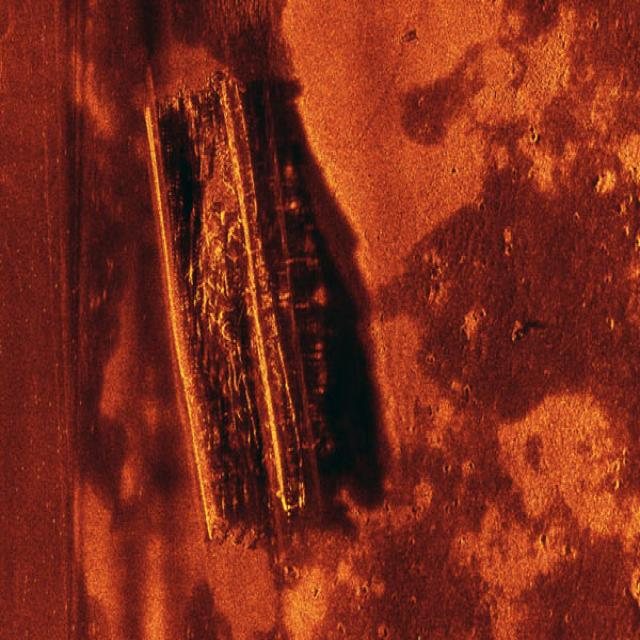ship: (143, 90, 331, 538)
